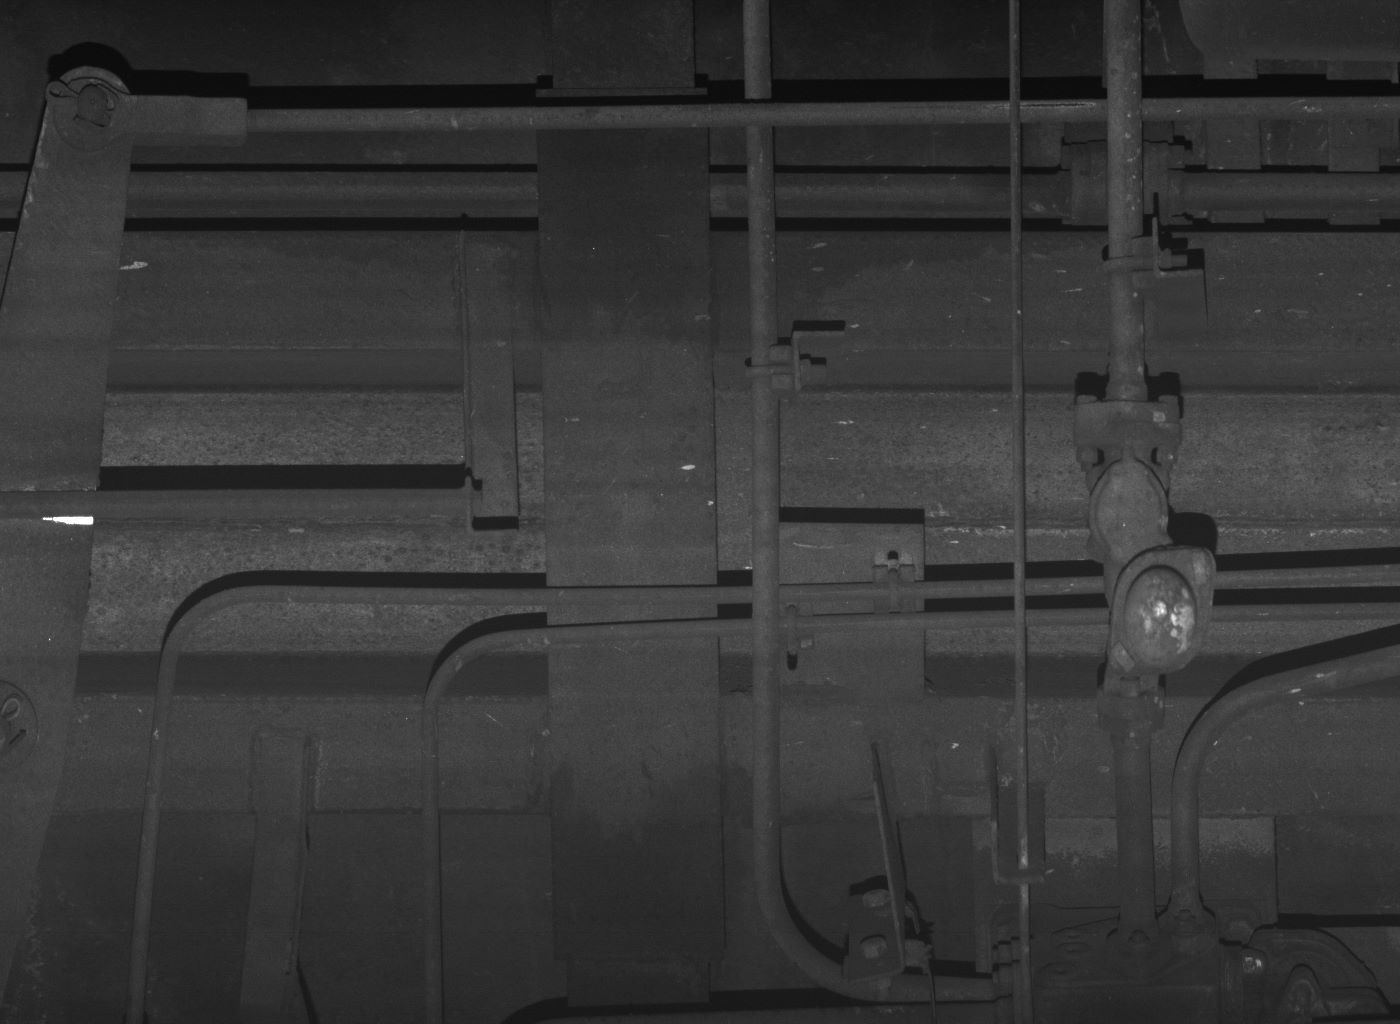normal: (1084, 458, 1174, 563)
